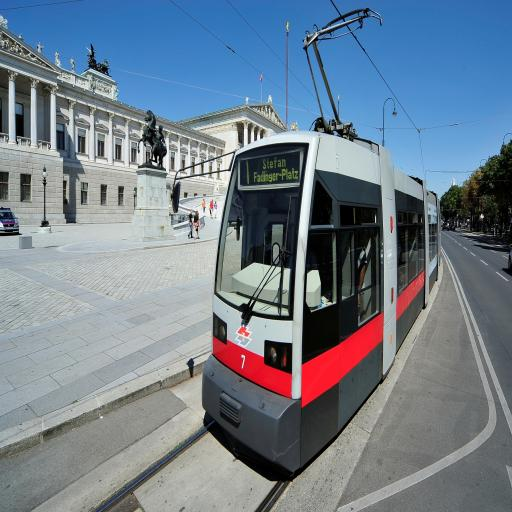ULF: (200, 126, 440, 473)
